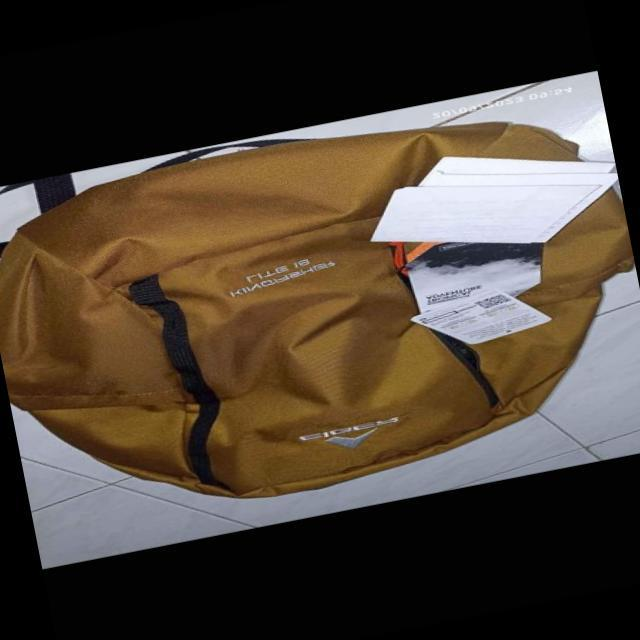bag: (0, 122, 590, 502)
